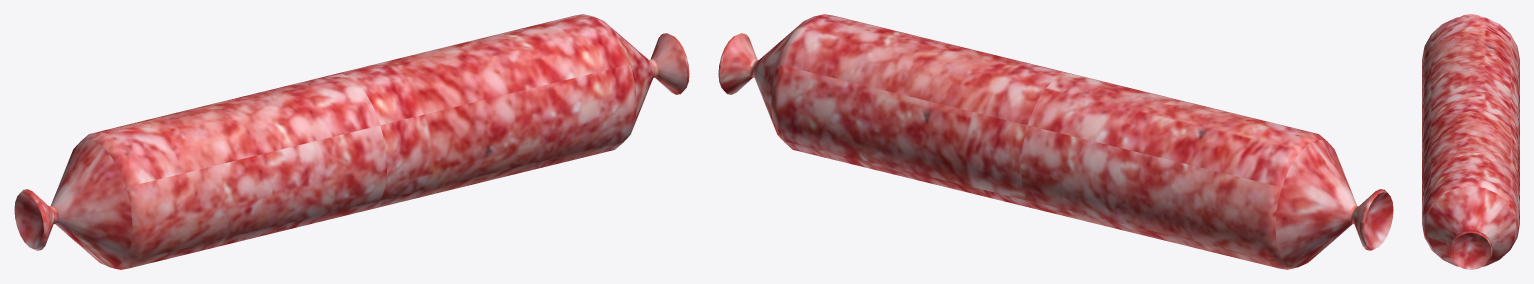
File: salami.fbx
The picture shows the model from 3 angles, left to right: view 1: azimuth 30°, elevation 25°; view 2: azimuth 150°, elevation 25°; view 3: azimuth 270°, elevation 25°; orthographic projection. The views are drawn at different scales.
Parts seen in each view (by area): view 1: pasted__pCylinder1; view 2: pasted__pCylinder1; view 3: pasted__pCylinder1.
Part boxes in pixels (left/top/right/bottom): pasted__pCylinder1: left=14, top=14, right=689, bottom=269; pasted__pCylinder1: left=718, top=14, right=1393, bottom=269; pasted__pCylinder1: left=1422, top=14, right=1519, bottom=269.
Bounding box in the file's own units: 10.55 × 2 × 2.
